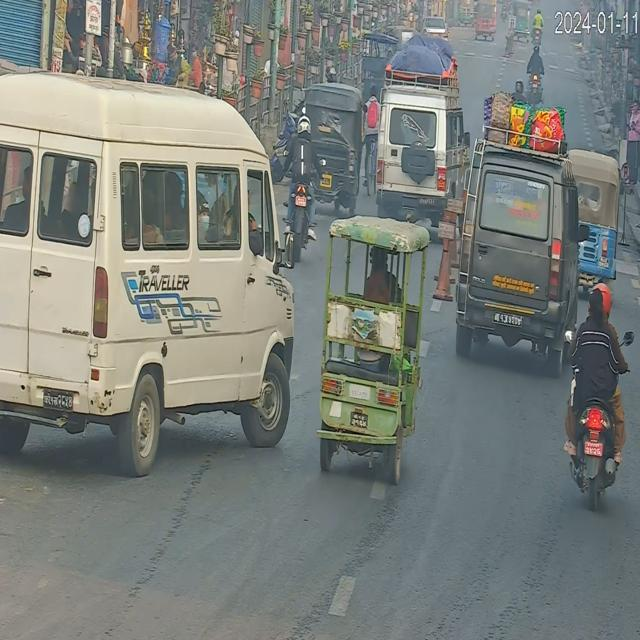license_plate: (549, 318, 638, 506), (336, 391, 383, 446), (30, 375, 87, 420)
